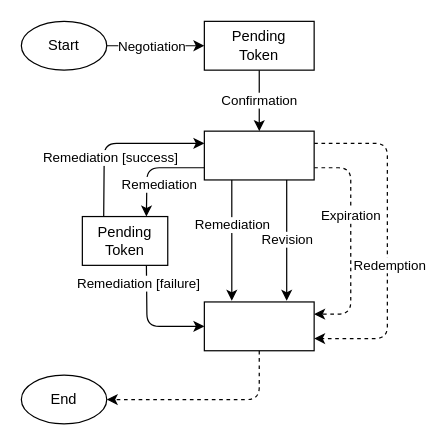
The diagram is 447 pixels wide and 445 high, and some of its shapes have lost their labels. Here are the shapes that lost their labels. From the top down, the centre of each, then its label:
At (x=258, y=155): "Valid Token".
At (x=258, y=326): "Invalid Token".
